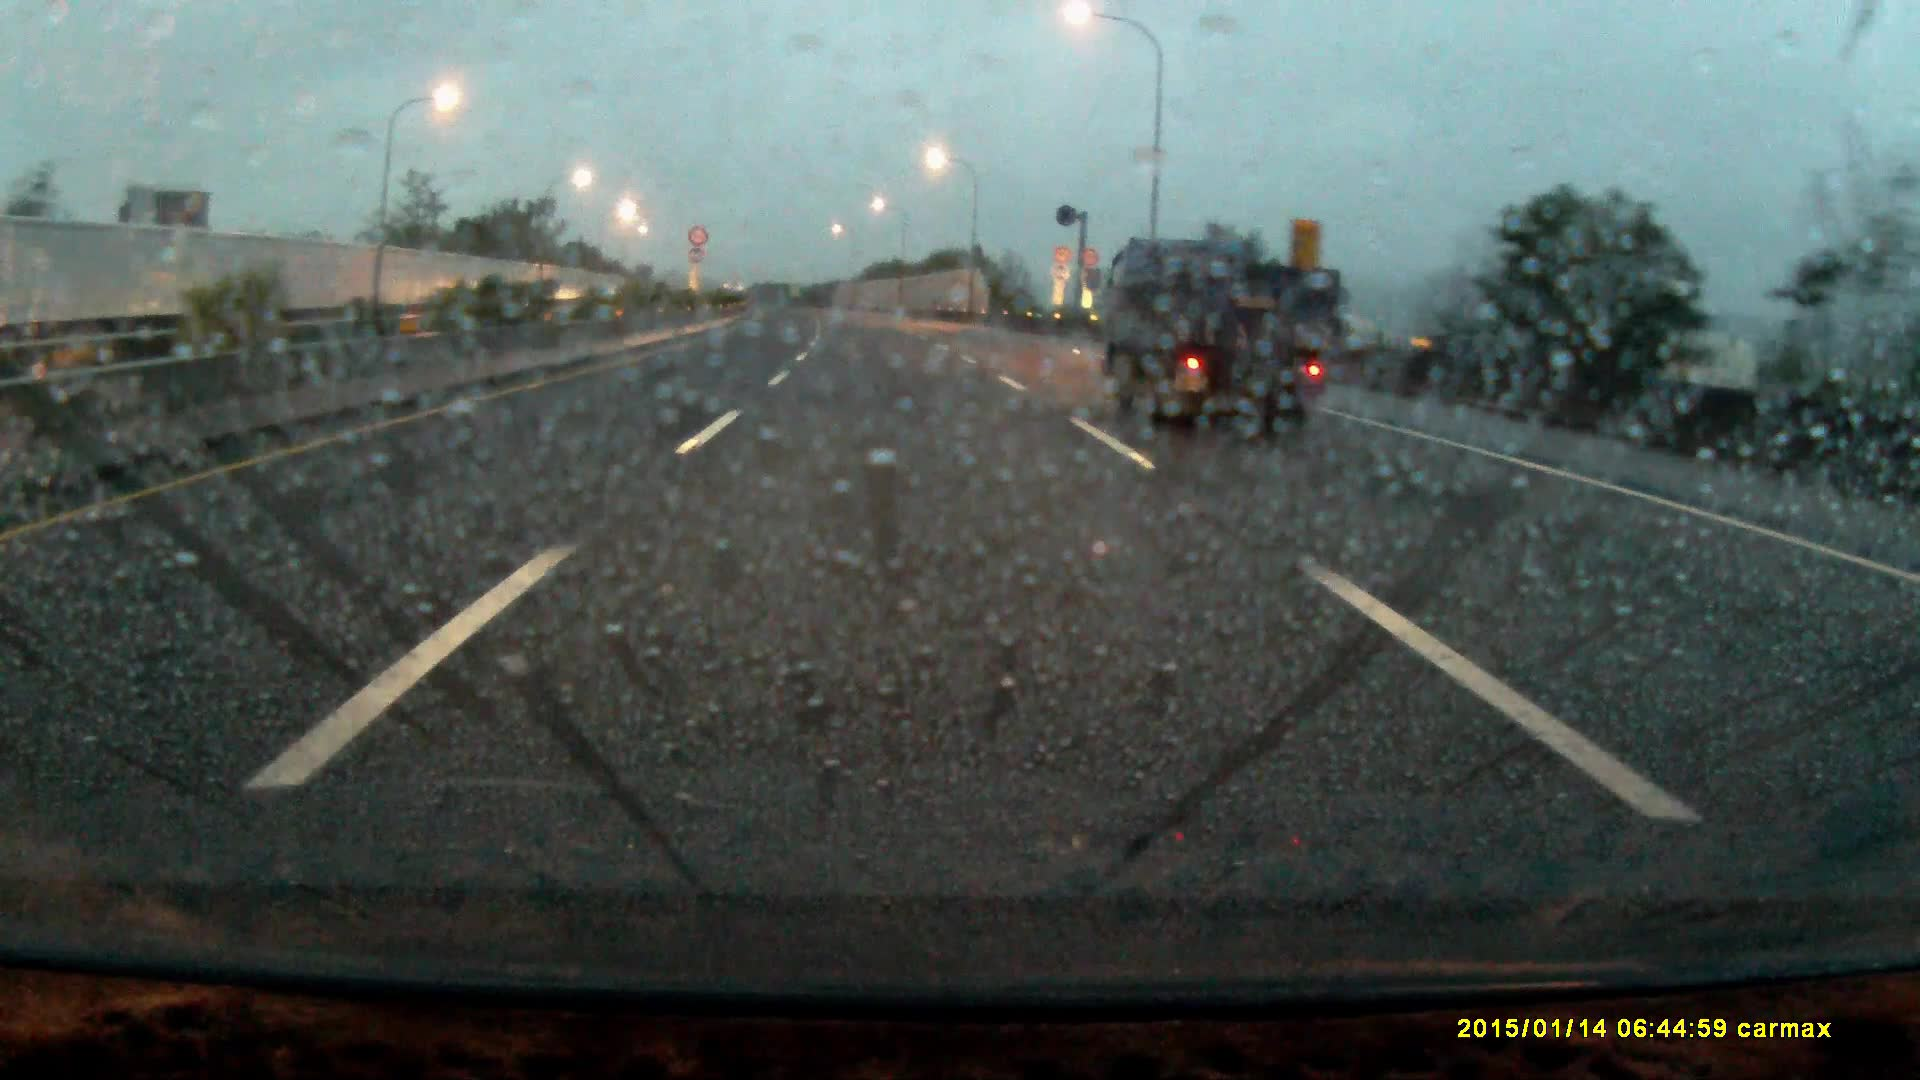vehicle: (1102, 237, 1342, 426)
